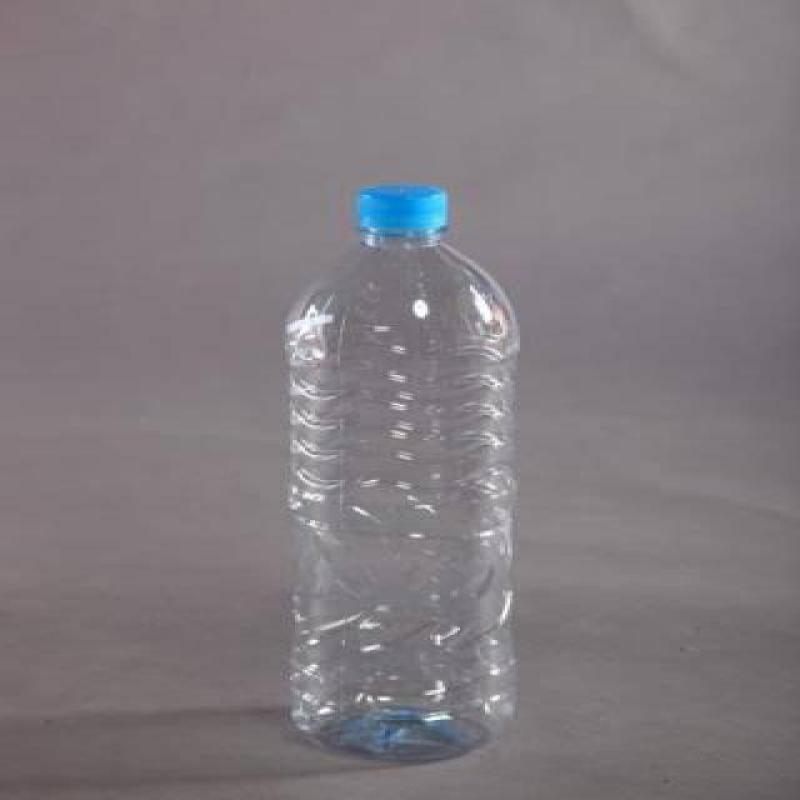botella: (265, 178, 537, 770)
